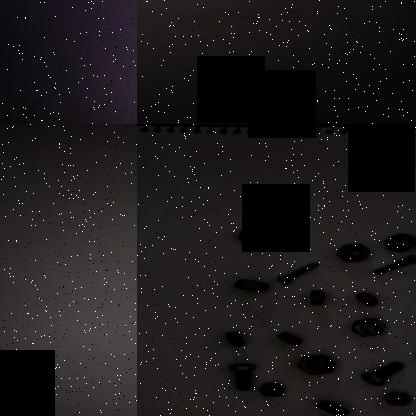Bolts: (358, 360, 408, 387), (272, 258, 322, 284), (370, 253, 416, 275), (226, 360, 256, 392)
NUTS: (297, 354, 338, 376), (333, 241, 373, 262), (229, 276, 272, 294), (378, 231, 416, 251), (309, 399, 352, 416), (348, 318, 388, 336), (219, 327, 249, 348), (379, 390, 413, 408), (236, 226, 264, 246), (272, 332, 308, 347), (258, 380, 286, 398), (352, 290, 380, 306), (305, 286, 325, 306), (270, 225, 298, 239)
